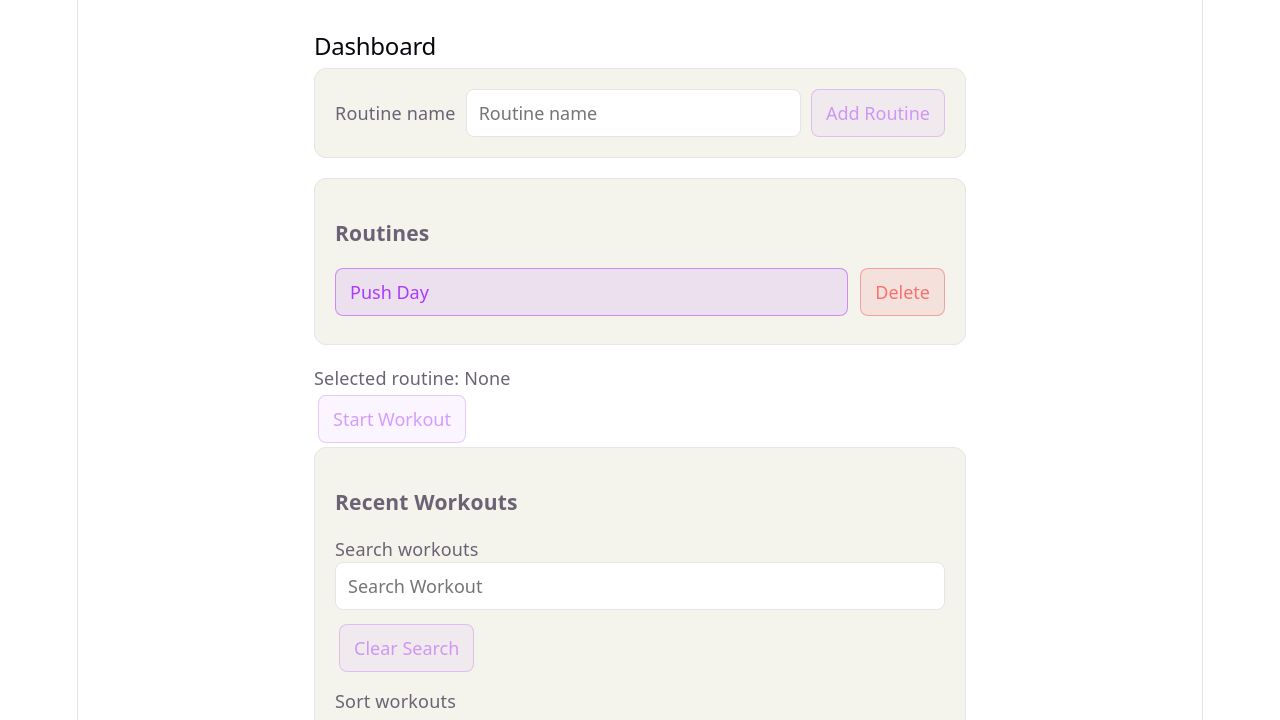
enables starting a workout after selecting a routine
Check: the button "Start Workout" is disabled, box [318,395,466,443]
Click the button "Push Day" at x=389, y=292, box [335,268,848,316]
(page scrolled)
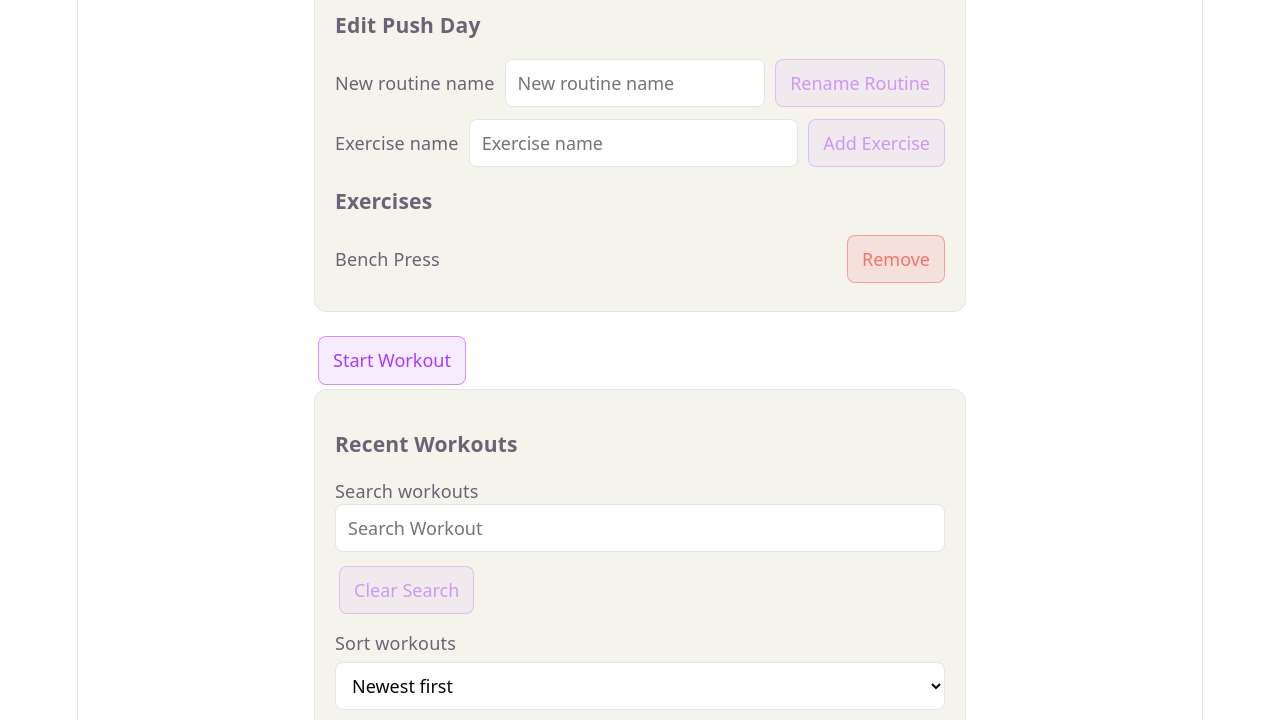
Check: the button "Start Workout" is enabled, box [318,336,466,384]
